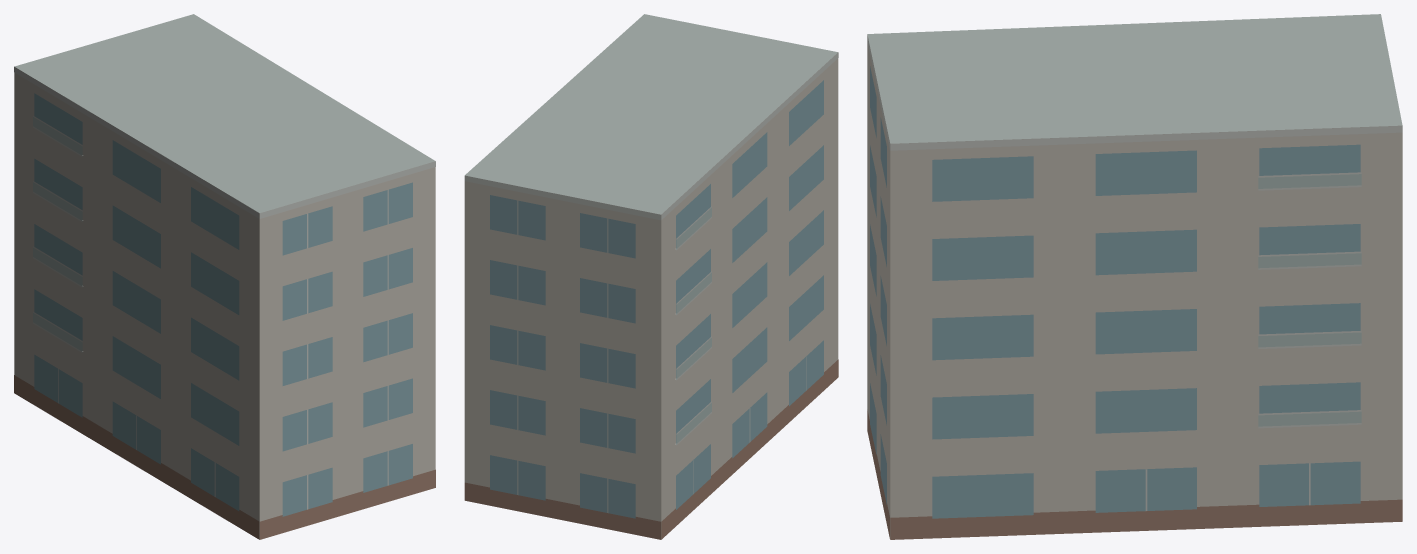
File: survey-upis-33024735.glb
3 renders of one model, left to right at view 1: azimuth 30°, elevation 25°; view 2: azimuth 150°, elevation 25°; view 3: azimuth 270°, elevation 25°, orthographic. The views are drawn at different scales.
Parts seen in each view (by area): view 1: survey-upis-33024735.tmp; view 2: survey-upis-33024735.tmp; view 3: survey-upis-33024735.tmp.
Boxes of the visible parts, left/top/right/bottom form: survey-upis-33024735.tmp: left=14, top=14, right=435, bottom=539; survey-upis-33024735.tmp: left=464, top=14, right=838, bottom=539; survey-upis-33024735.tmp: left=867, top=14, right=1402, bottom=539.
Size of the model in its own units: 9.75 by 13.86 by 16.99.
